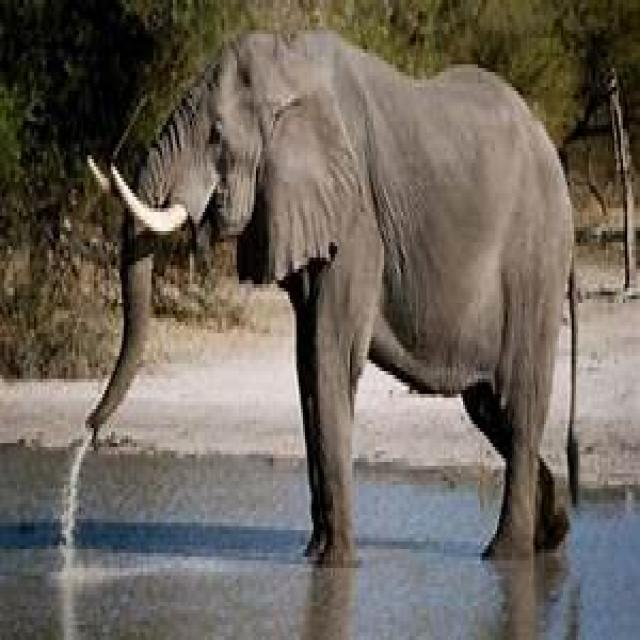elephant: (85, 30, 578, 640)
